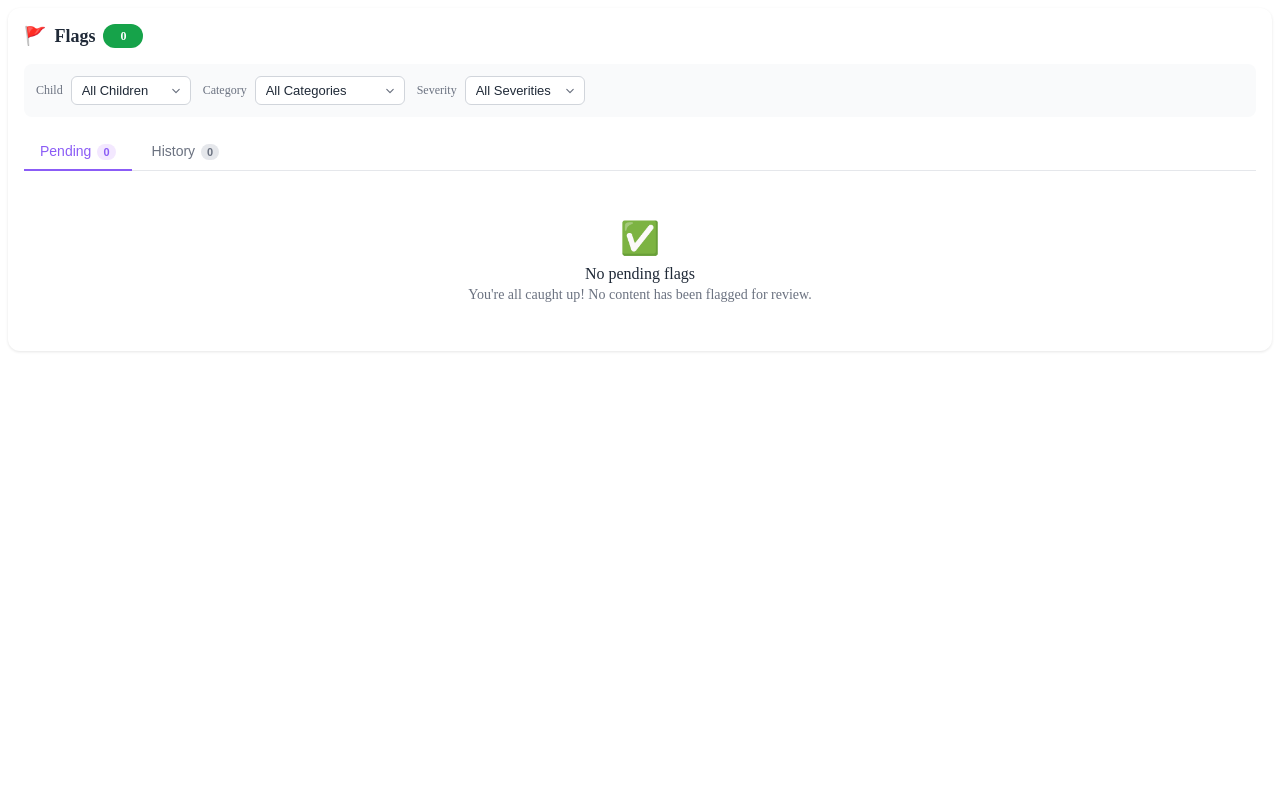
FlagQueue › AC5: History section › should display history flags when History tab is selected
Note: Switch to History tab
Click the tab with test id "tab-history" at point(185, 152), box [136,133,235,171]
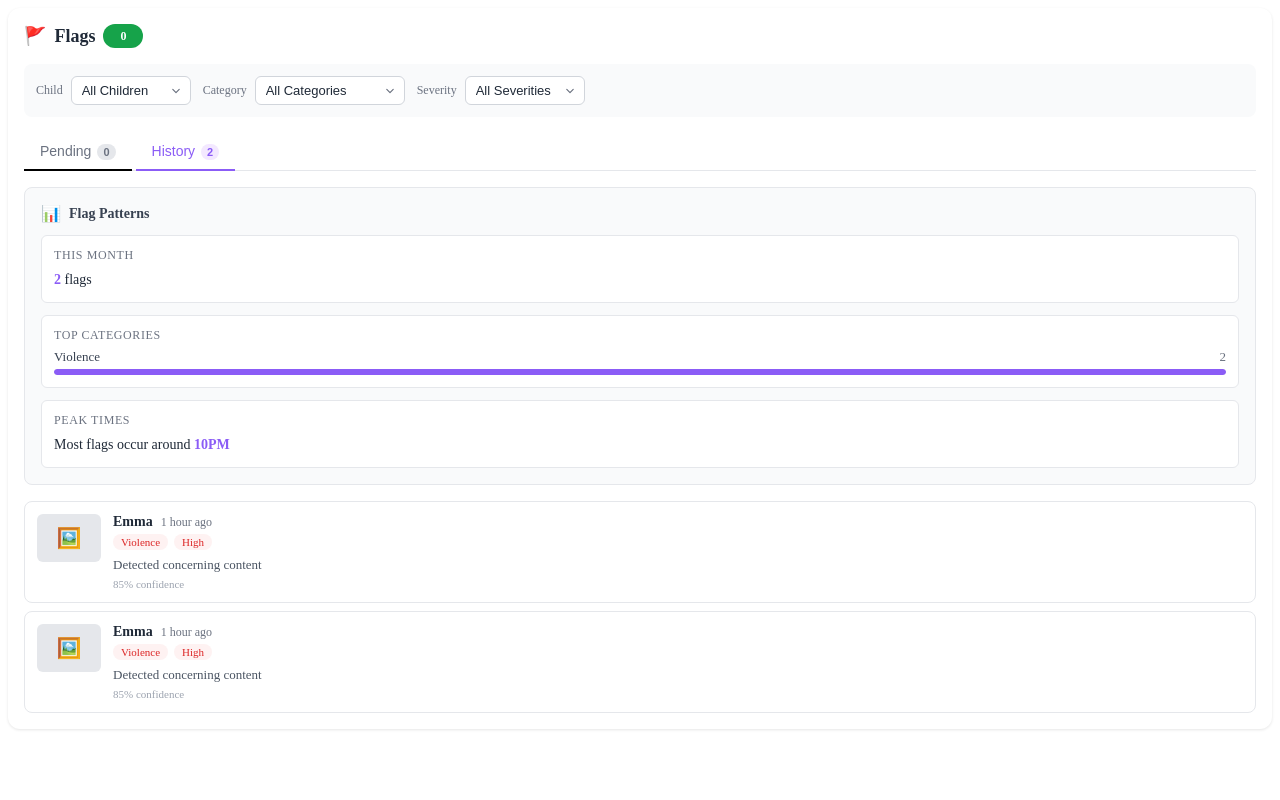
Check: the button with test id "flag-card-flag-reviewed" is shown, box [24,501,1256,603]
Check: the button with test id "flag-card-flag-dismissed" is shown, box [24,611,1256,713]
